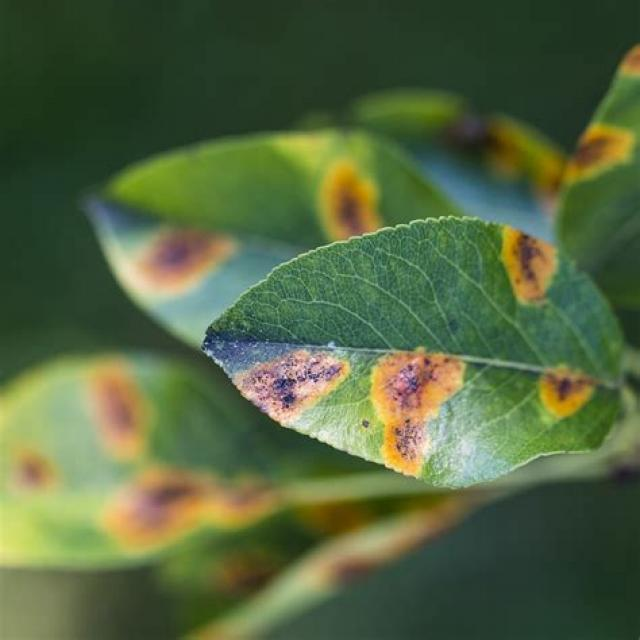blight: (362, 324, 477, 476), (228, 329, 356, 435)
